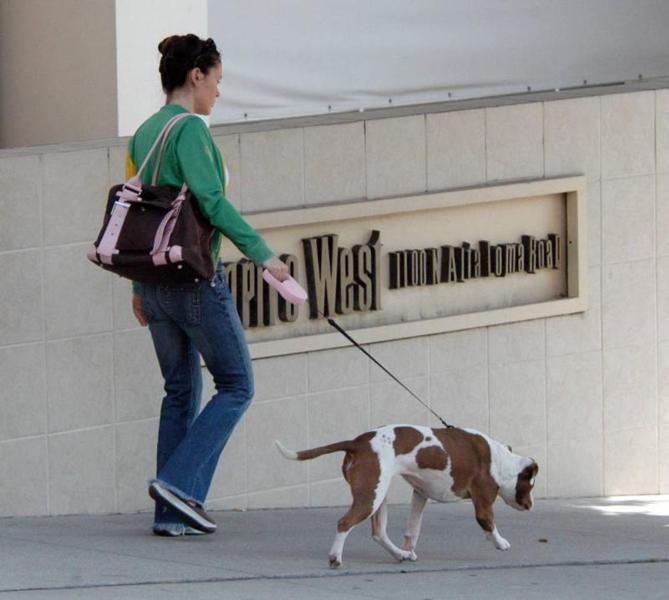person: (128, 34, 291, 533)
